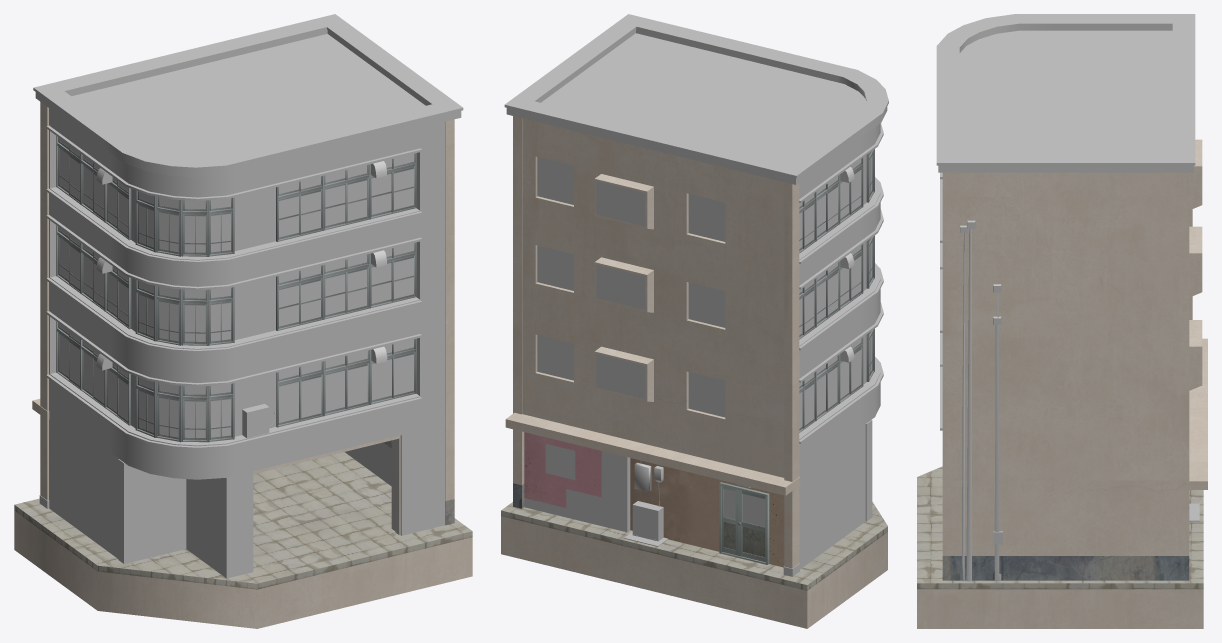
The model's file is mallbil_3x4_3_kado_In.fbx.
3 renders of one model, left to right at view 1: azimuth 30°, elevation 25°; view 2: azimuth 150°, elevation 25°; view 3: azimuth 270°, elevation 25°, orthographic. The views are drawn at different scales.
Parts seen in each view (by area): view 1: mallbil_3x4_3_kado_In; view 2: mallbil_3x4_3_kado_In; view 3: mallbil_3x4_3_kado_In.
Part boxes in pixels (x1,y1,x2,y2): mallbil_3x4_3_kado_In: (14,14,472,628); mallbil_3x4_3_kado_In: (501,14,888,628); mallbil_3x4_3_kado_In: (917,14,1207,628).
Size of the model in its own units: 1145 by 1592 by 900.
